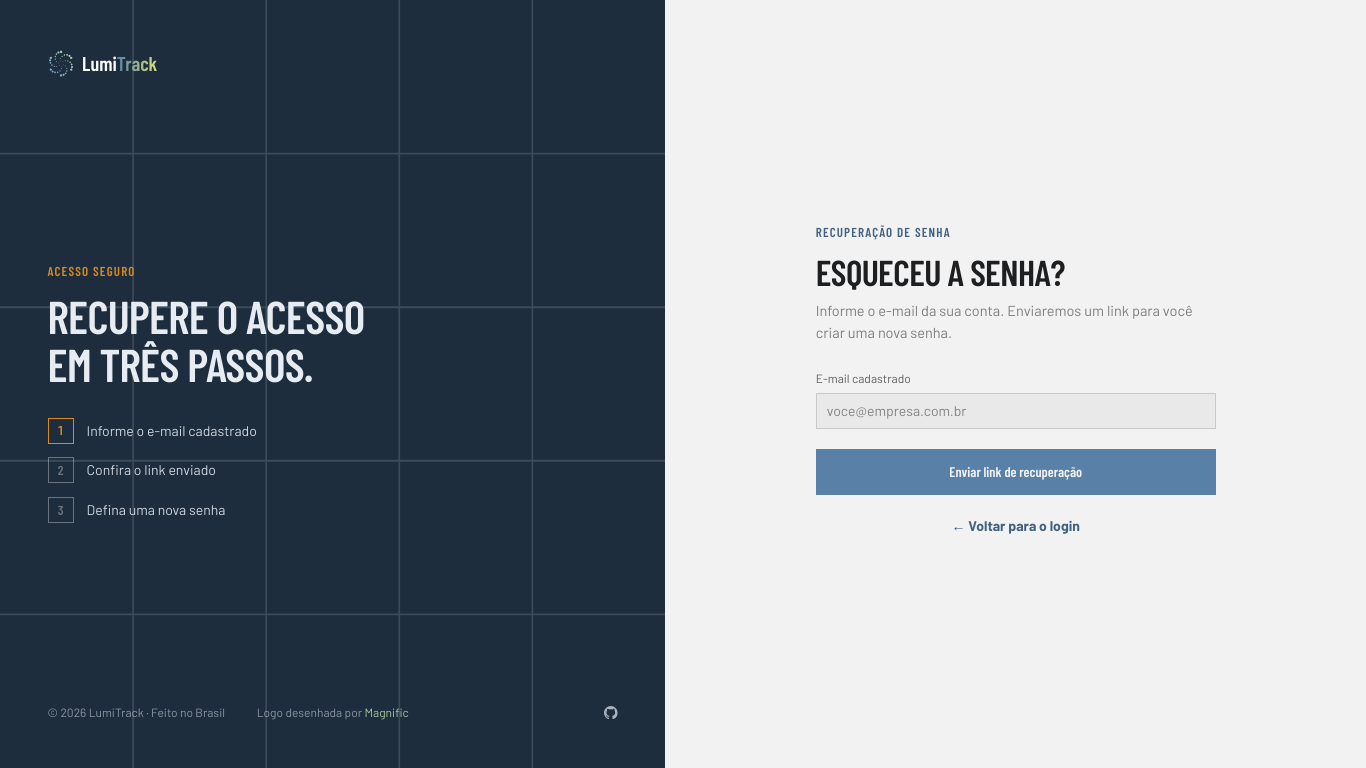
Scenario: ForgotPasswordPage — validação › mostra erro para e-mail inválido
Type "nao-e-email" into the field labelled "E-mail cadastrado". click: [1016, 411]
box: top-left (816, 393), bottom-right (1216, 429)
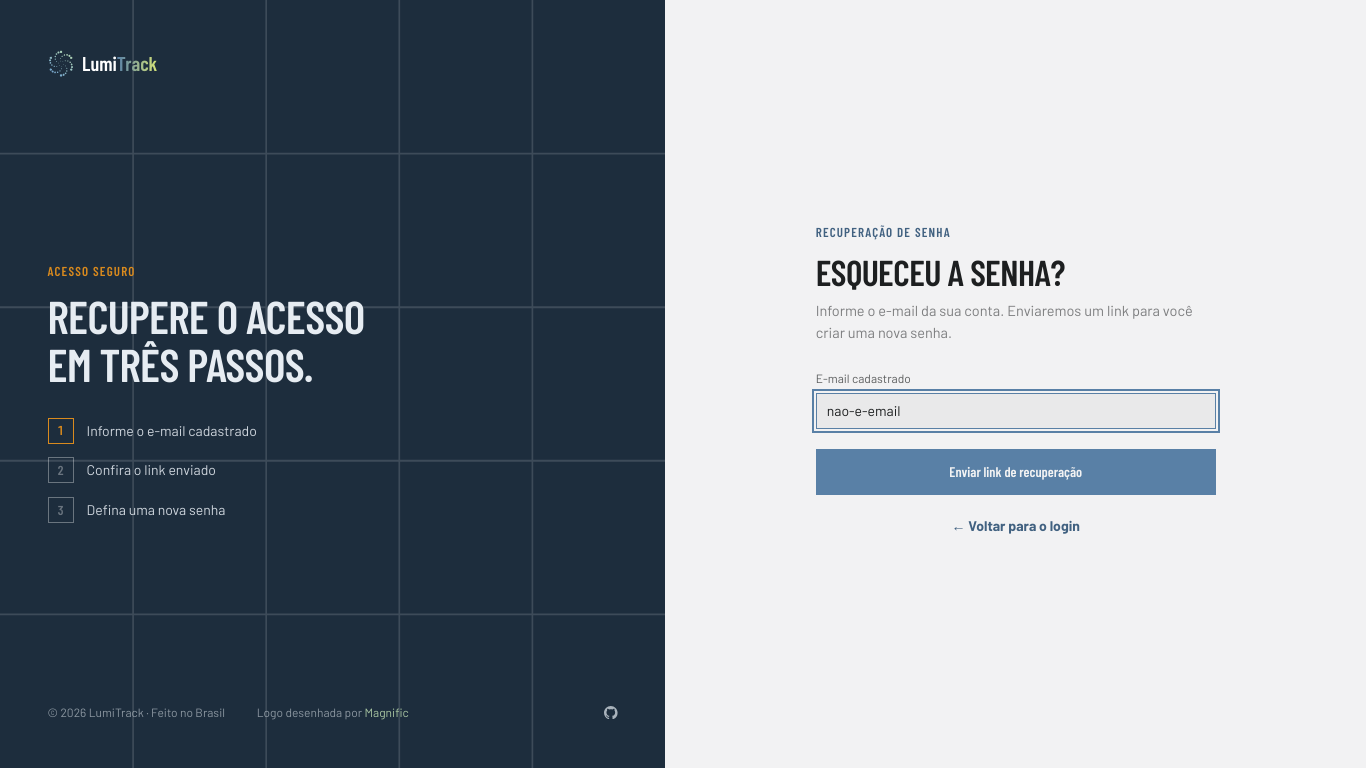
Click the button "Enviar link de recuperação". click: [1016, 472]
box: top-left (816, 449), bottom-right (1216, 495)
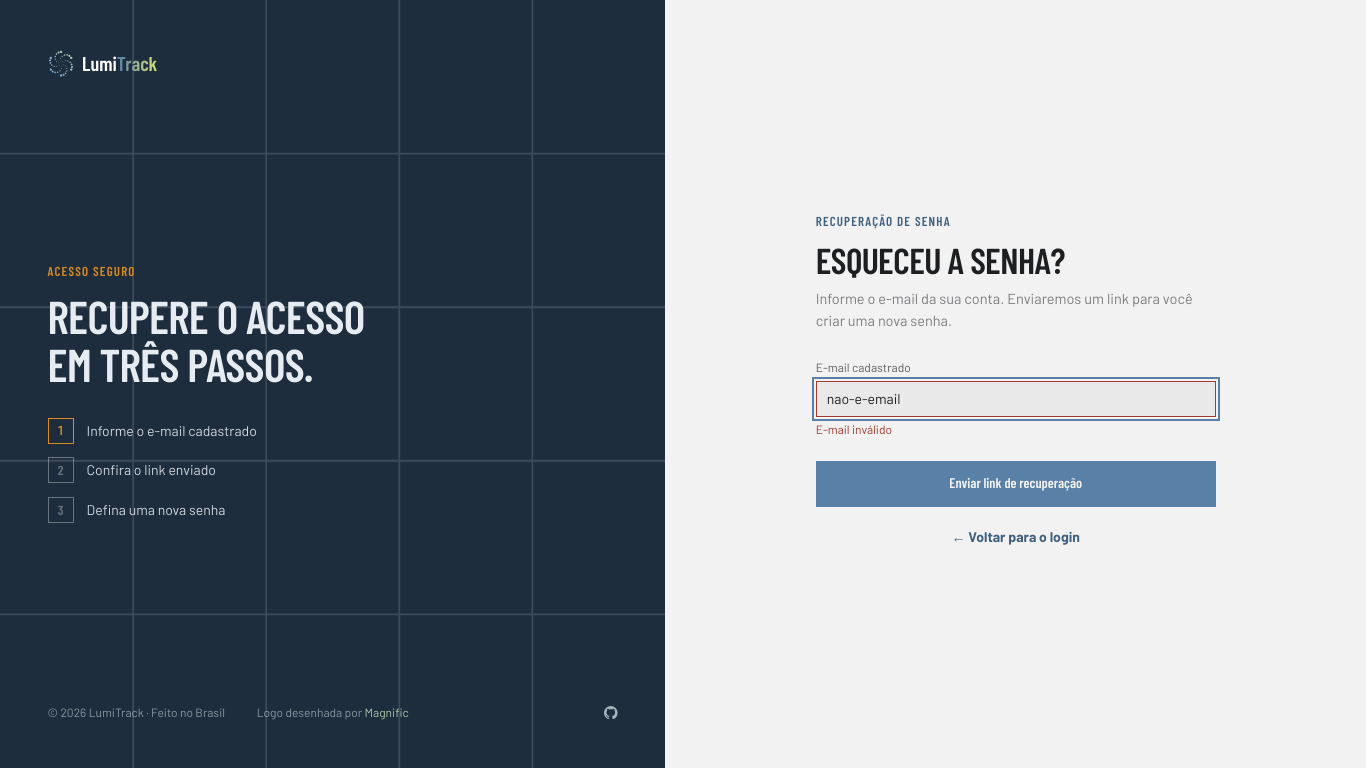
expect the text "E-mail inválido" is shown: met, box top-left (816, 422), bottom-right (892, 436)
